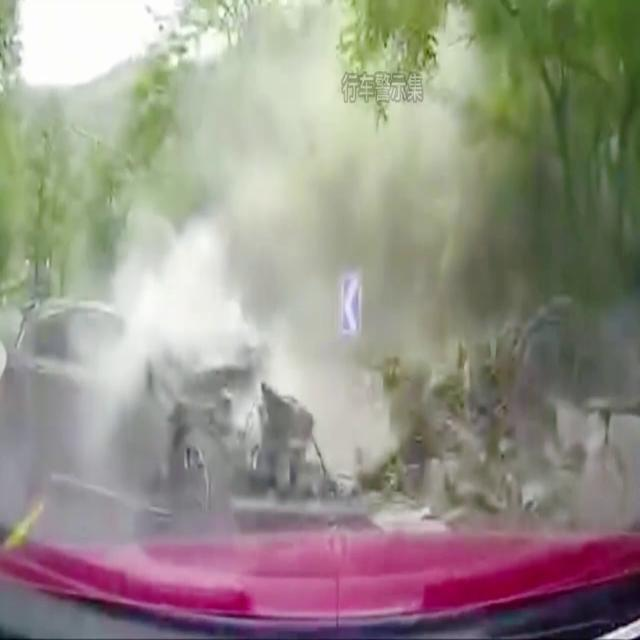single accident: (58, 230, 509, 570)
